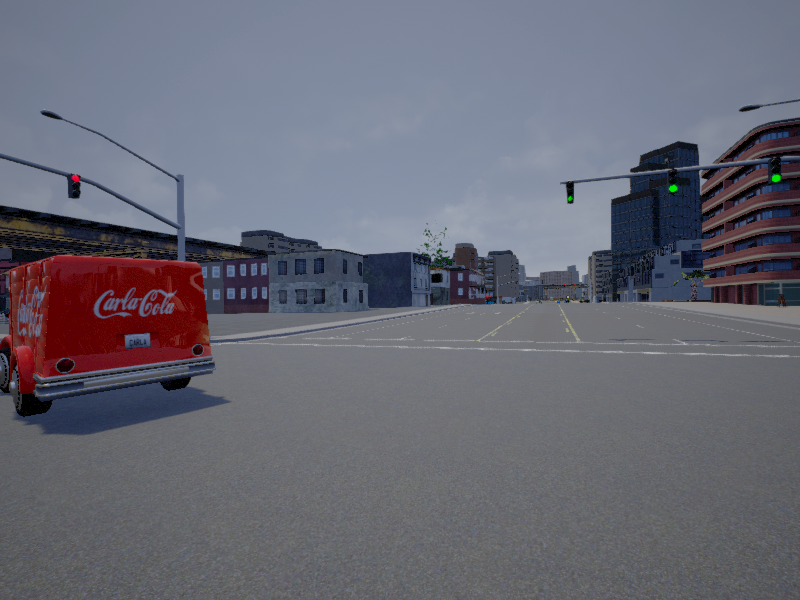Benign: (1, 258, 212, 424)
